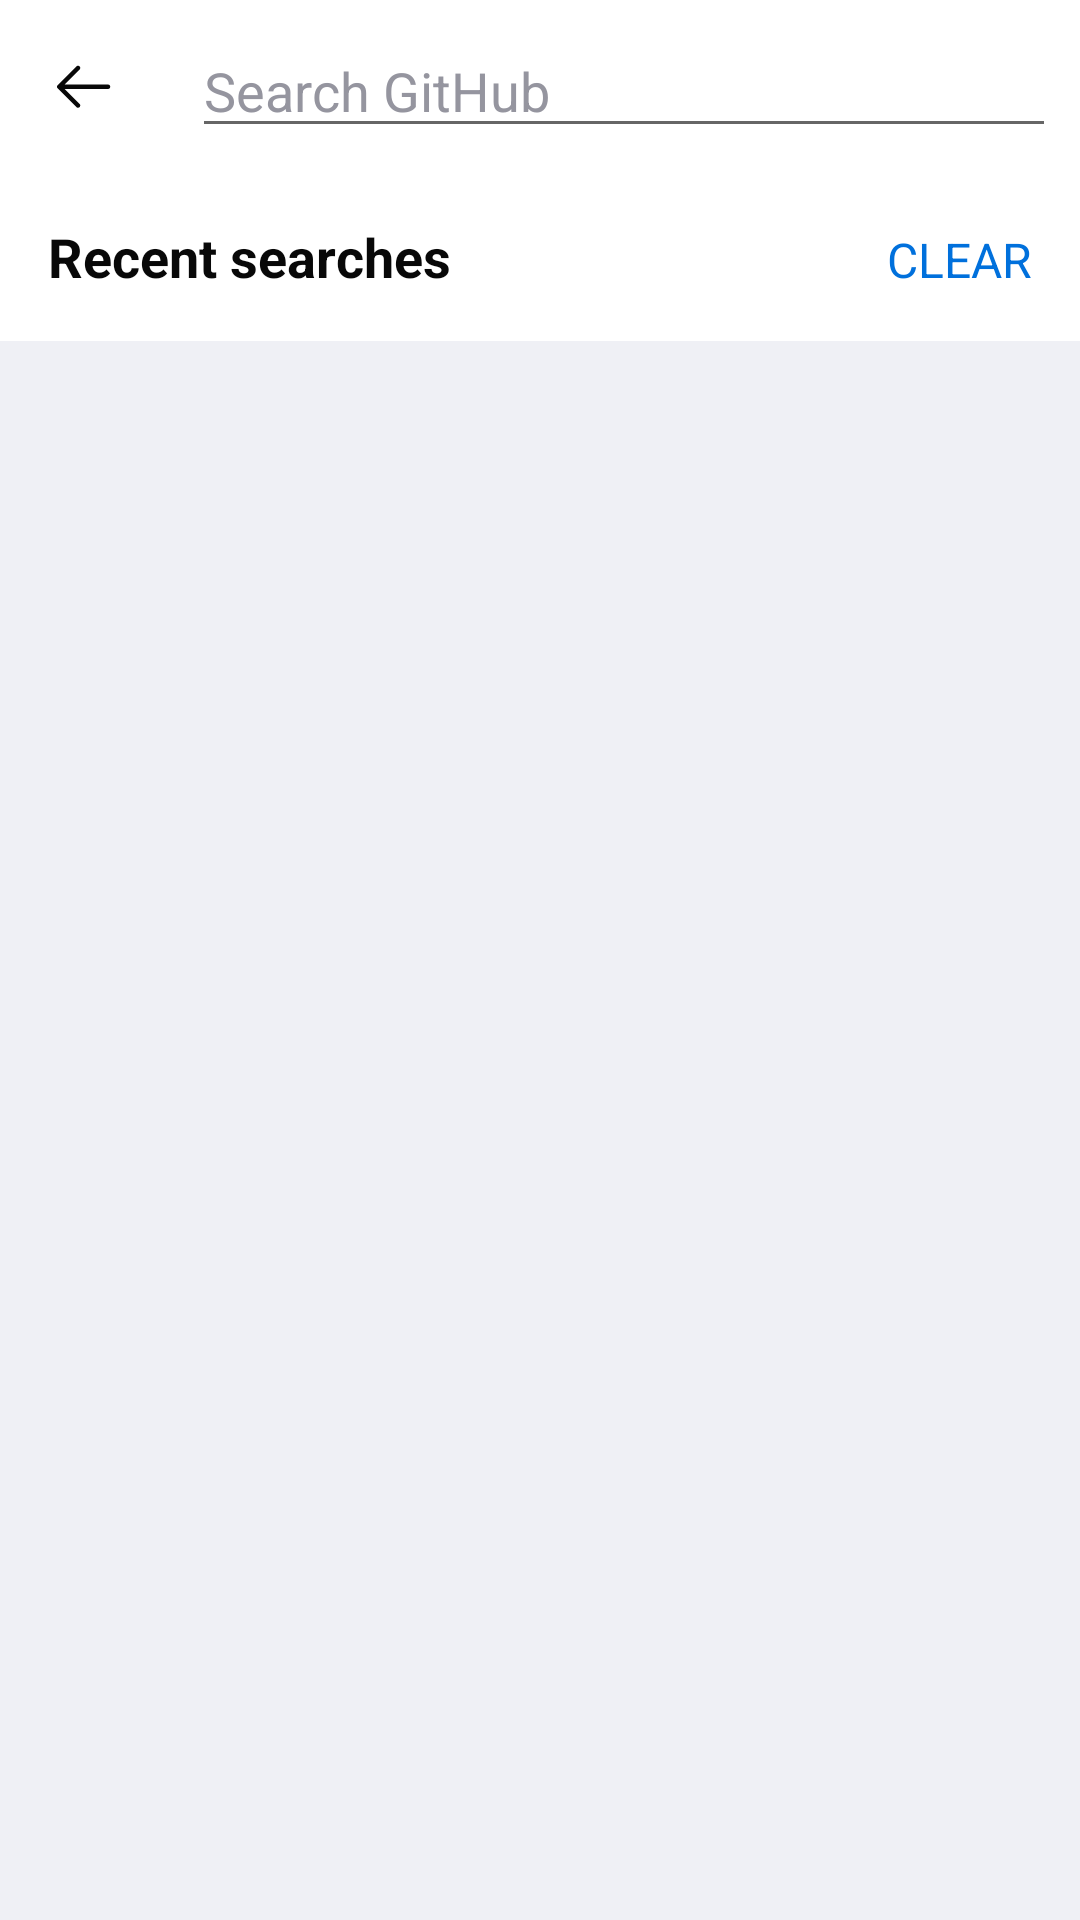

Where icons sit on this 1080px x 1920px app screen, as BBox(x1, y1, x2, y2):
back: BBox(57, 65, 111, 108)
